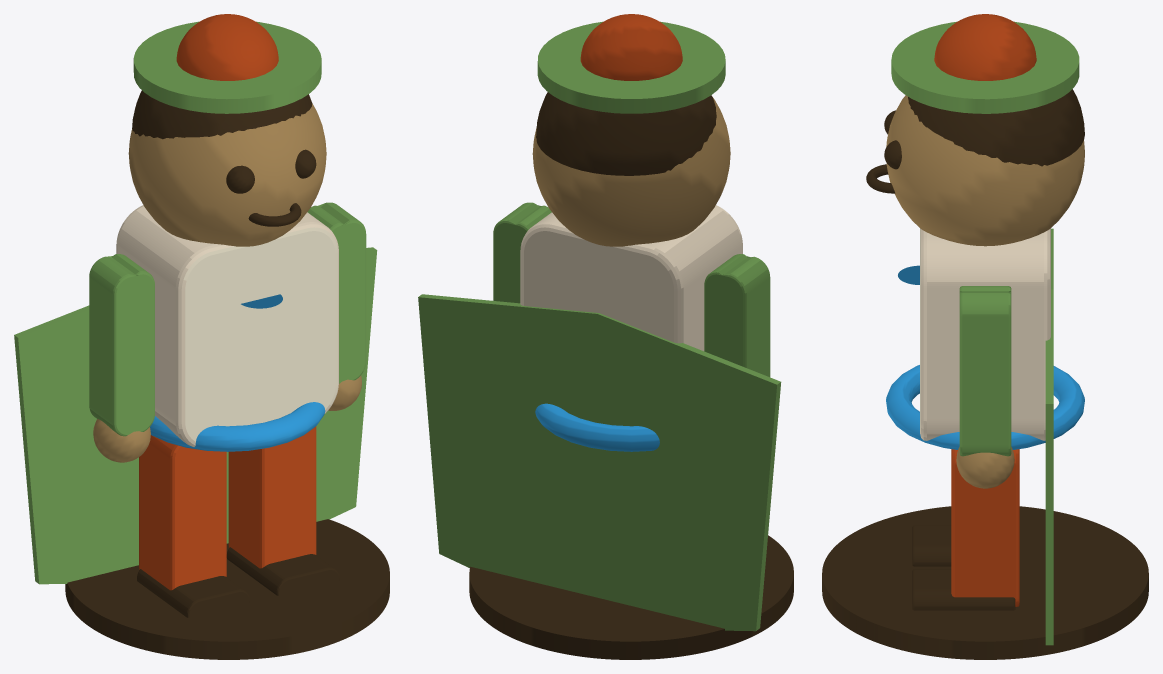
File: 0700_《史记》_太公兵法.glb
3 views of the same model, side by side, from view 1: azimuth 30°, elevation 25°; view 2: azimuth 150°, elevation 25°; view 3: azimuth 270°, elevation 25° (orthographic).
Visible parts, largest first — view 1: card_0700; view 2: card_0700; view 3: card_0700.
Part boxes in pixels (x1,y1,x2,y2): card_0700: (14, 14, 389, 659); card_0700: (418, 14, 793, 659); card_0700: (822, 14, 1148, 659).
Size of the model in its own units: 0.6431 by 1 by 0.5064.
